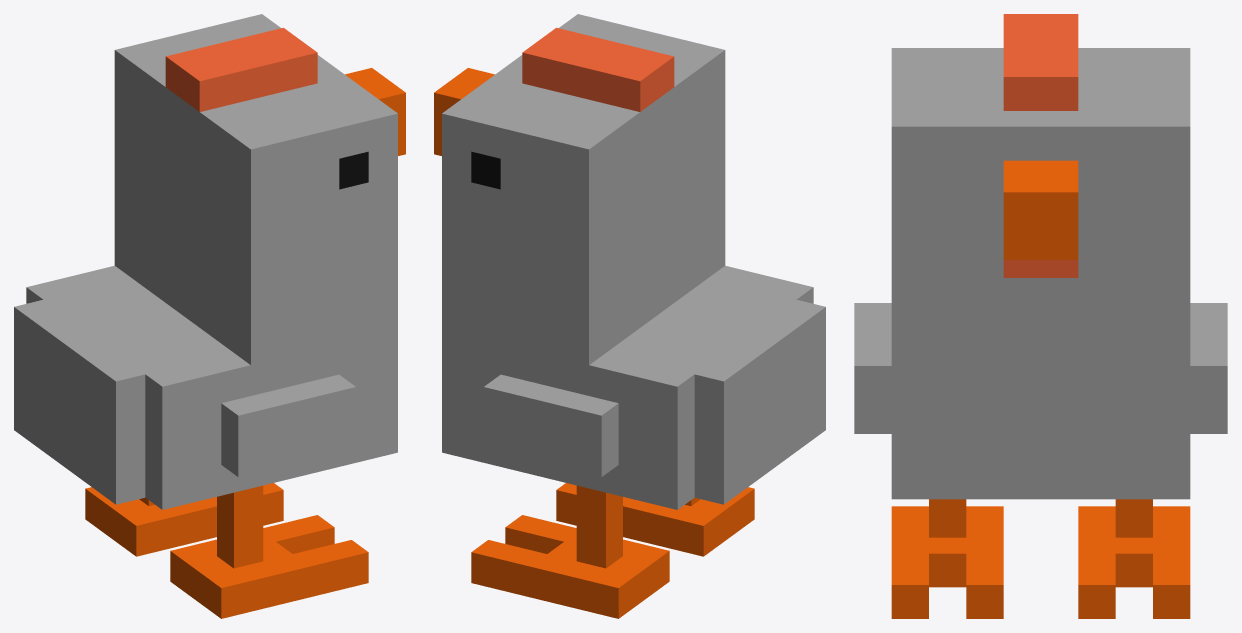
Rendered from chicken.obj.
The picture shows the model from 3 angles, left to right: view 1: azimuth 30°, elevation 25°; view 2: azimuth 150°, elevation 25°; view 3: azimuth 270°, elevation 25°; orthographic projection. The views are drawn at different scales.
Parts seen in each view (by area): view 1: chicken; view 2: chicken; view 3: chicken.
Part boxes in pixels (box(x1,y1,x2,y2)): chicken: box(14, 14, 405, 618); chicken: box(434, 14, 825, 618); chicken: box(854, 14, 1227, 618).
Size of the model in its own units: 11 by 16 by 10.
1 material, 1 textured.
